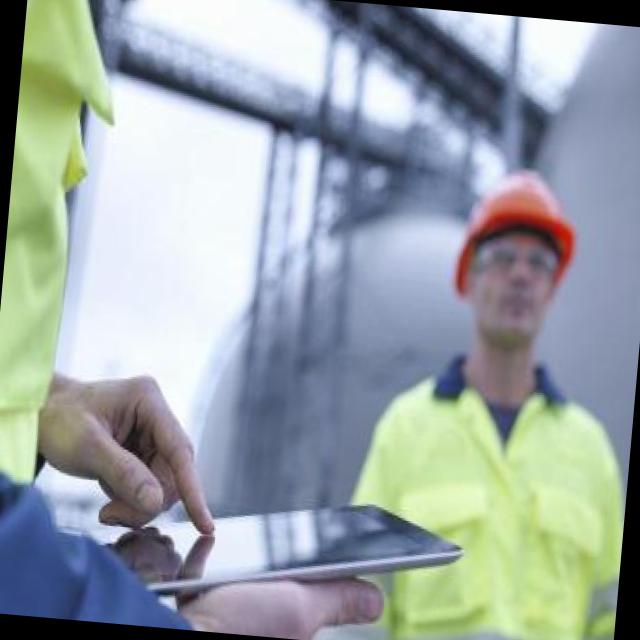helmet: (433, 137, 598, 389)
